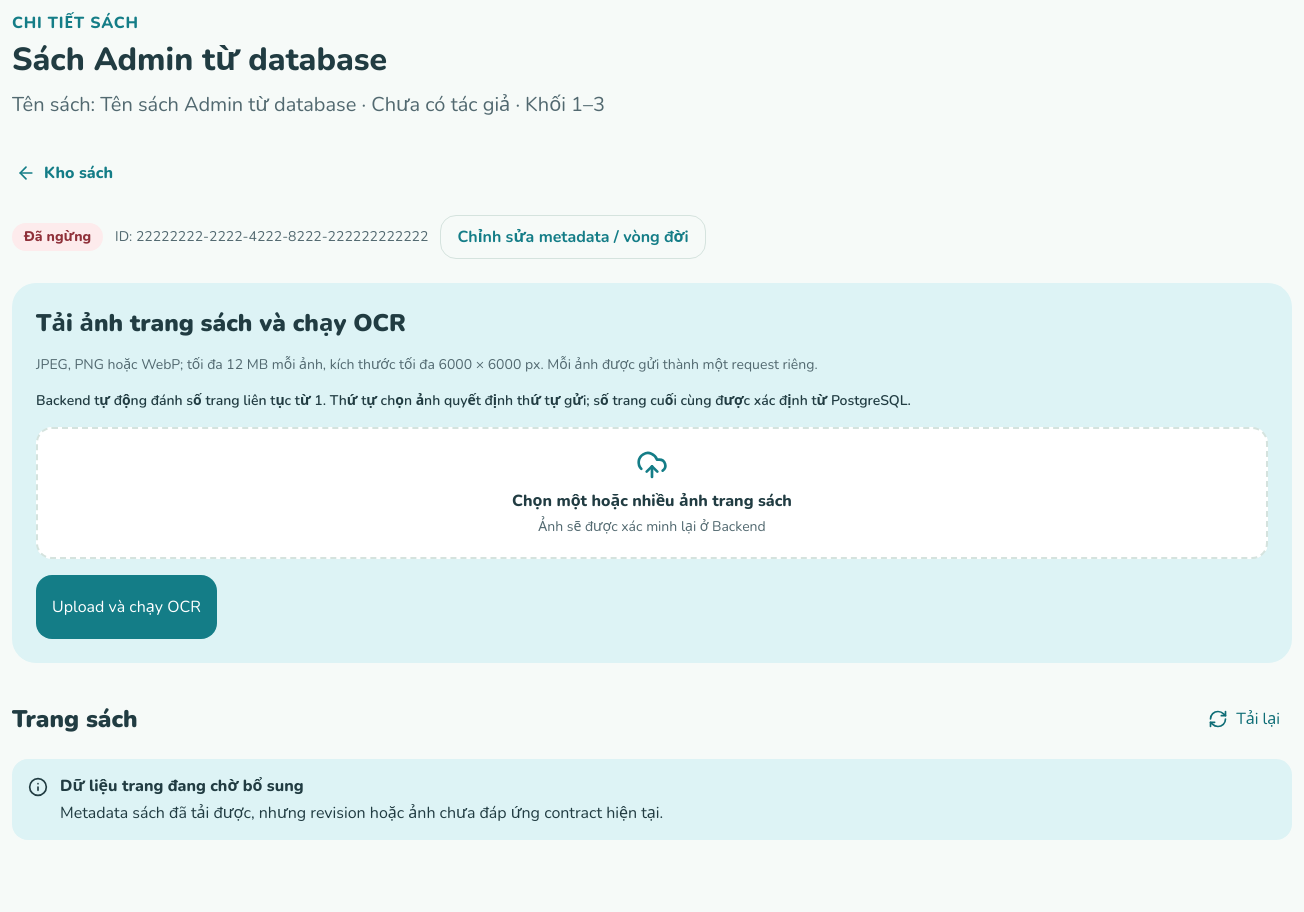
Test: Admin UI with real adapters and isolated HTTP responses › keeps book metadata when pages are unavailable and retries successfully
This screenshot has width=1304, height=912.
Expected: the text "Dữ liệu trang đang chờ bổ sung" is shown, [60, 775, 304, 797]
Expected: the heading "Sách Admin từ database" is shown, [12, 38, 387, 81]
What coordinates should you click on to do the following:
click the button "Tải lại"
I would click on:
 (1244, 719)
Its box is [1196, 695, 1292, 743].
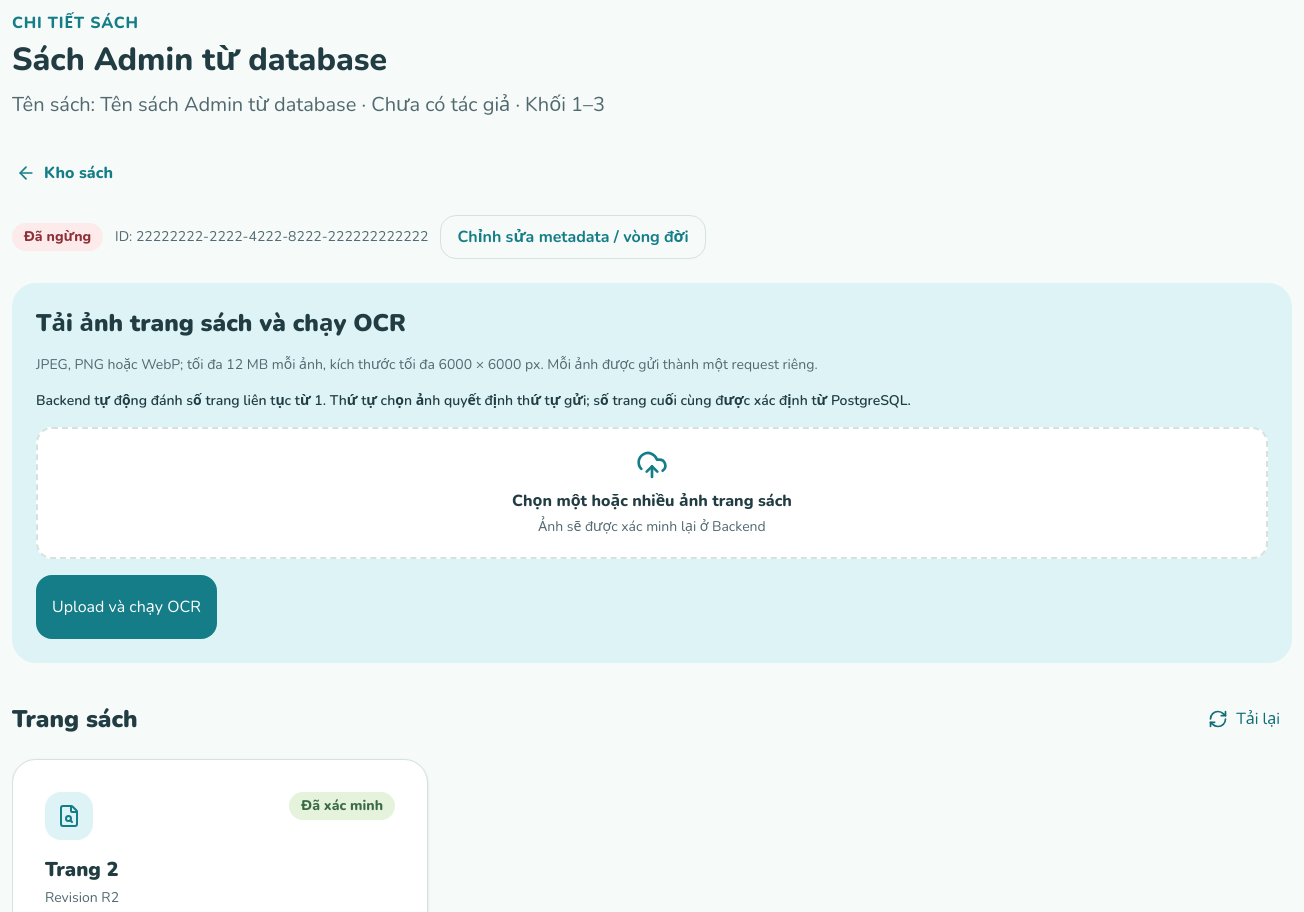
Expected: the heading "Trang 2" is shown, [45, 856, 119, 883]
